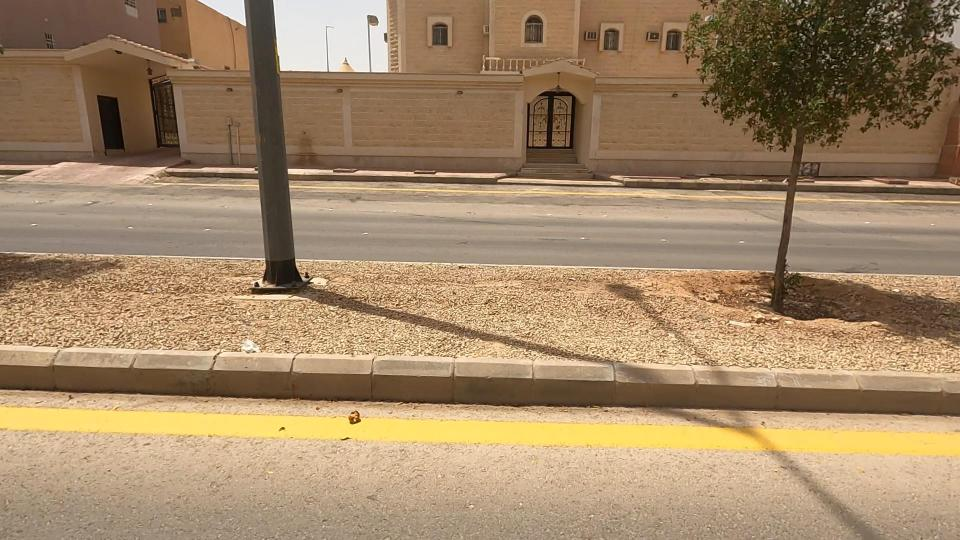CLUTTER_SIDEWALK: (280, 221, 944, 397), (0, 211, 521, 383)
